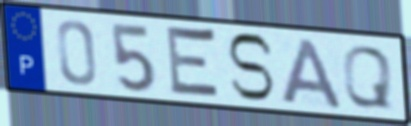0: (54, 18, 99, 87)
5: (109, 19, 160, 94)
A: (279, 36, 346, 111)
E: (165, 21, 224, 103)
Q: (340, 43, 394, 111)
S: (224, 31, 277, 104)
